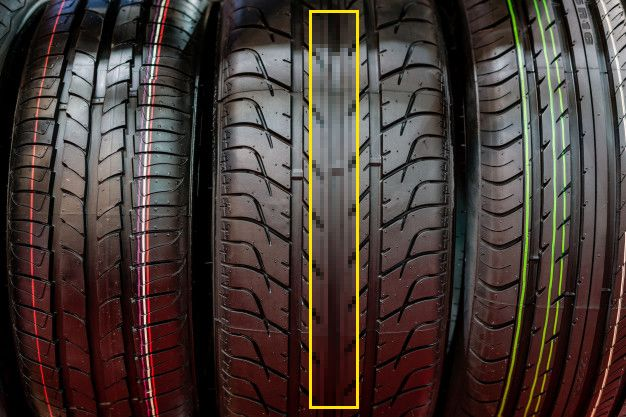new_condition: (19, 1, 191, 412)
